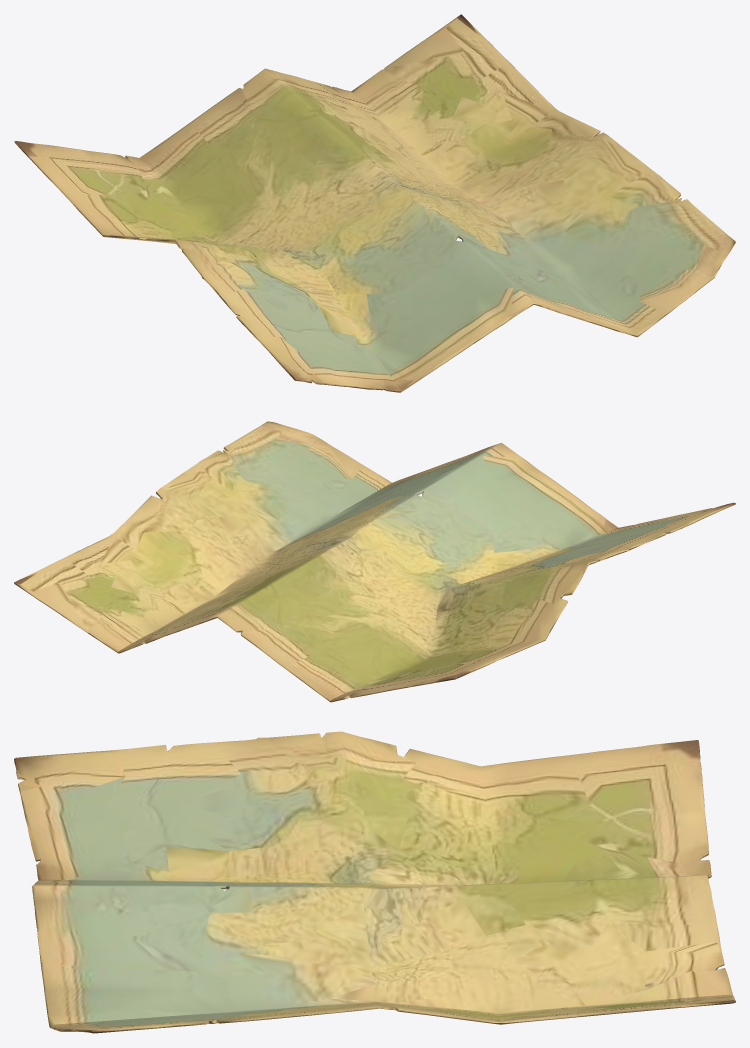
The model's file is map_paper_karta_rayona_idle.glb.
The picture shows the model from 3 angles, top to bottom: view 1: azimuth 30°, elevation 25°; view 2: azimuth 150°, elevation 25°; view 3: azimuth 270°, elevation 25°; orthographic projection. The views are drawn at different scales.
Parts seen in each view (by area): view 1: tripo_node_73e232ca-8cc9-4528-8428-e7daa2c77870; view 2: tripo_node_73e232ca-8cc9-4528-8428-e7daa2c77870; view 3: tripo_node_73e232ca-8cc9-4528-8428-e7daa2c77870.
Boxes of the visible parts, x1,y1,x2,y2 form: tripo_node_73e232ca-8cc9-4528-8428-e7daa2c77870: (14,14,735,392); tripo_node_73e232ca-8cc9-4528-8428-e7daa2c77870: (14,421,735,702); tripo_node_73e232ca-8cc9-4528-8428-e7daa2c77870: (14,731,735,1033).
Bounding box in the file's own units: 1.12 × 0.2003 × 1.26.
1 material, 1 textured.
